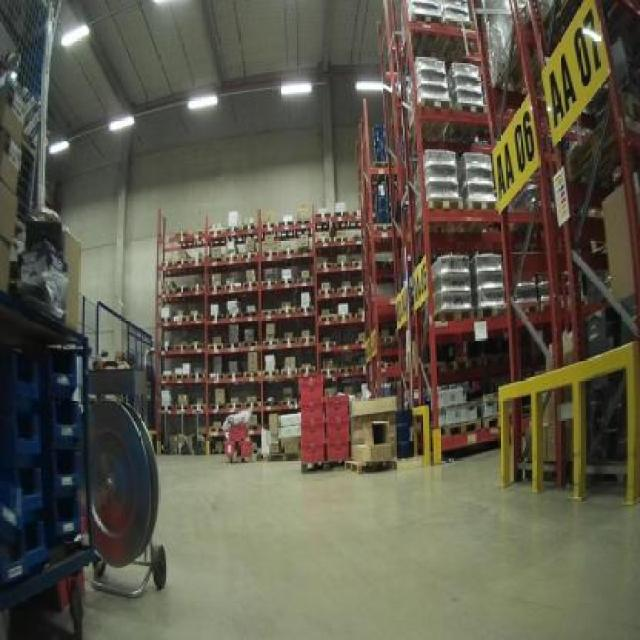pallet: (342, 451, 400, 474), (438, 415, 483, 442), (299, 457, 347, 477), (206, 341, 227, 356), (172, 369, 194, 382), (262, 335, 280, 349), (222, 339, 240, 353), (236, 341, 262, 350), (276, 335, 296, 345), (191, 368, 206, 381)
